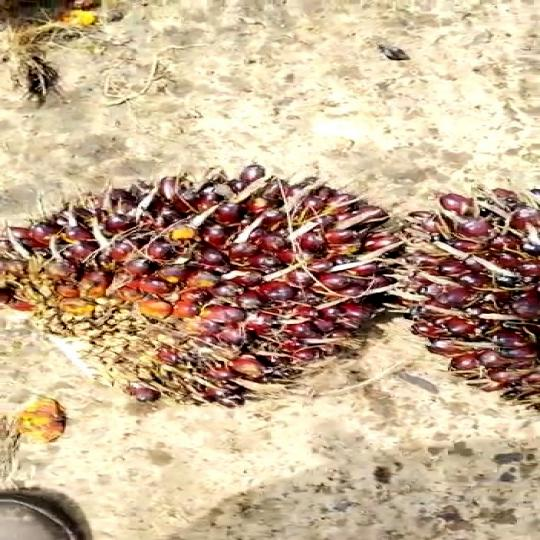kurang masak: (0, 152, 408, 418), (393, 180, 540, 424)
